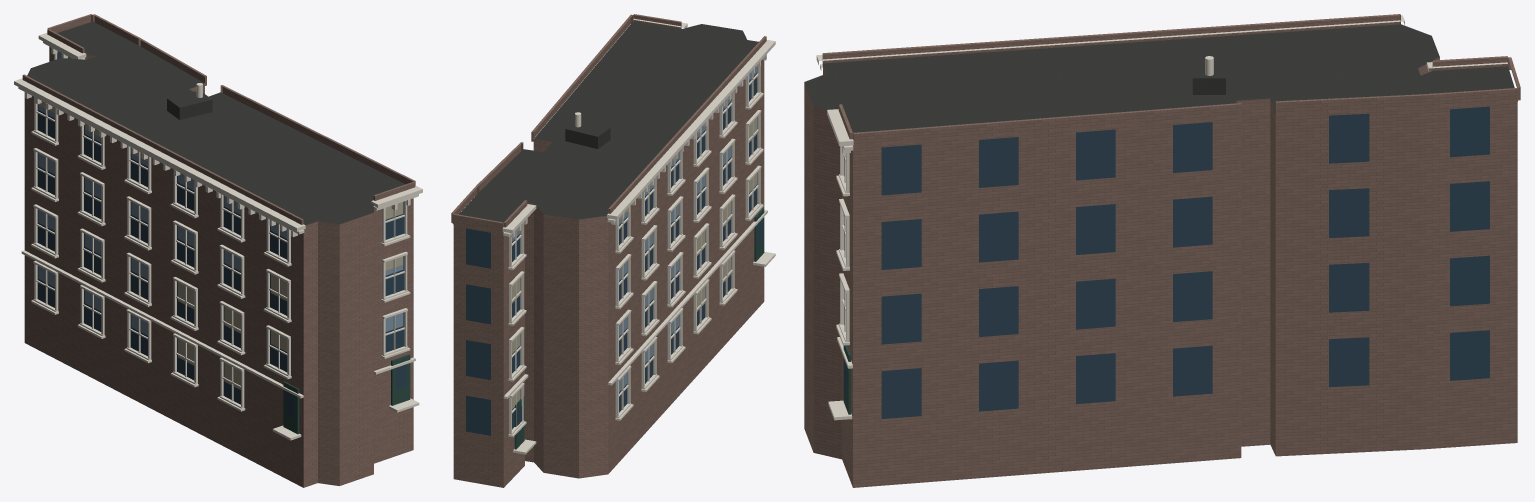
3 views of the same model, side by side, from view 1: azimuth 30°, elevation 25°; view 2: azimuth 150°, elevation 25°; view 3: azimuth 270°, elevation 25° (orthographic). The views are drawn at different scales.
Parts seen in each view (by area): view 1: Footprint 0 / surface 2, Footprint 0 / surface 1, Cornices and window frames, Inset glazing, Facade bay volumes, Sky reflection panels, Interior blind variation, Storefronts and doors, Inferred rooftop service enclosure / surface 5; view 2: Footprint 0 / surface 2, Footprint 0 / surface 1, Cornices and window frames, Inset glazing, Facade bay volumes, Sky reflection panels, Interior blind variation, Storefronts and doors, Inferred rooftop service enclosure / surface 6, Inferred rooftop service enclosure / surface 3; view 3: Footprint 0 / surface 2, Inset glazing, Footprint 0 / surface 1, Facade bay volumes, Cornices and window frames.
Boxes of the visible parts, <box> form: Footprint 0 / surface 2: <box>24,46,413,487</box>; Footprint 0 / surface 1: <box>27,21,404,225</box>; Cornices and window frames: <box>14,33,422,440</box>; Inset glazing: <box>37,51,406,418</box>; Facade bay volumes: <box>22,14,415,224</box>; Sky reflection panels: <box>38,51,403,351</box>; Interior blind variation: <box>38,101,403,389</box>; Storefronts and doors: <box>283,354,410,434</box>; Inferred rooftop service enclosure / surface 5: <box>179,99,212,119</box>; Footprint 0 / surface 2: <box>453,60,764,487</box>; Footprint 0 / surface 1: <box>459,21,758,222</box>; Cornices and window frames: <box>502,18,775,454</box>; Inset glazing: <box>466,67,762,435</box>; Facade bay volumes: <box>451,14,766,232</box>; Sky reflection panels: <box>512,66,756,391</box>; Interior blind variation: <box>512,117,756,409</box>; Storefronts and doors: <box>514,208,764,449</box>; Inferred rooftop service enclosure / surface 6: <box>565,129,597,148</box>; Inferred rooftop service enclosure / surface 3: <box>566,120,609,136</box>; Footprint 0 / surface 2: <box>804,57,1517,487</box>; Inset glazing: <box>844,106,1489,418</box>; Footprint 0 / surface 1: <box>804,24,1514,132</box>; Facade bay volumes: <box>822,14,1520,146</box>; Cornices and window frames: <box>816,15,1509,420</box>.
Bounding box in the file's own units: 10.73 × 14.99 × 25.68.
